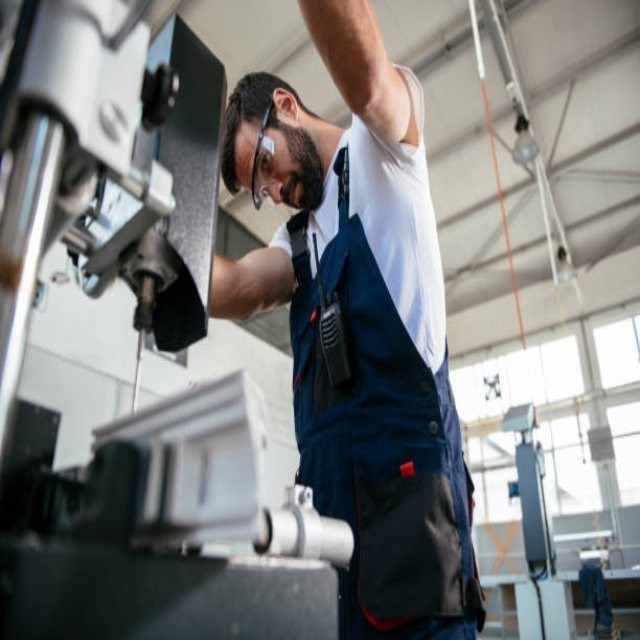Gafas: (252, 96, 278, 214)
Sin_mascara: (283, 157, 324, 220)
